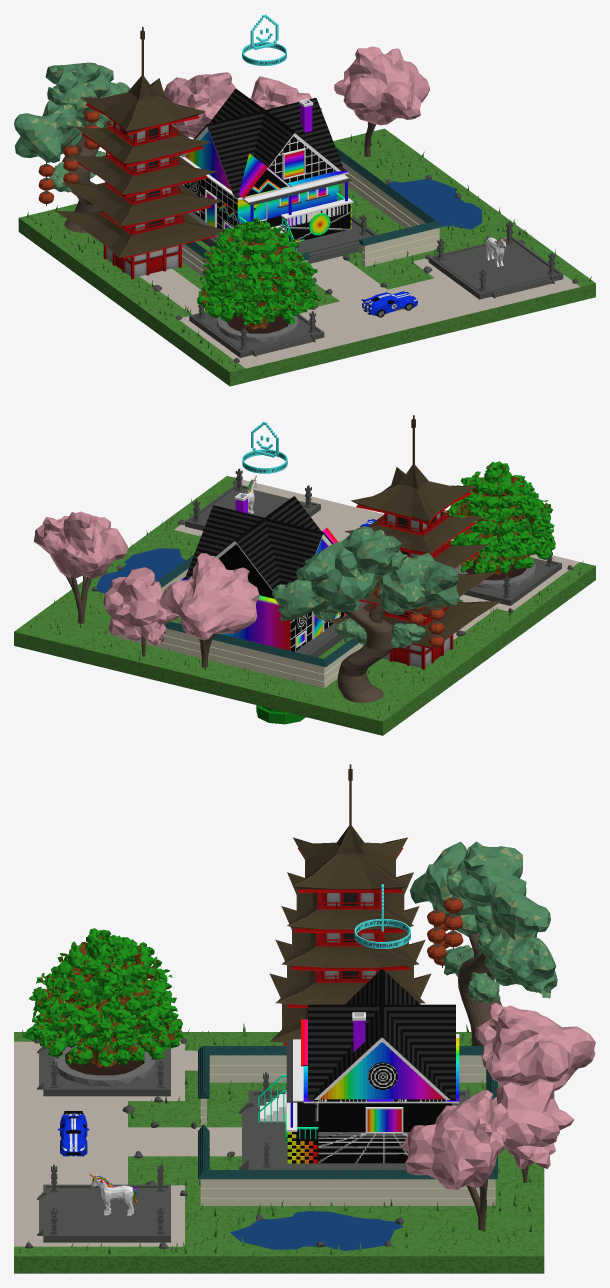
3 renders of one model, top to bottom at view 1: azimuth 30°, elevation 25°; view 2: azimuth 150°, elevation 25°; view 3: azimuth 270°, elevation 25°, orthographic. The views are drawn at different scales.
Parts seen in each view (by area): view 1: Cube.005, Cube.1320, OBJRANDOM_CEIBA, VEHICLES_RACING_CAR, TYPE_PREMIUM; view 2: Cube.005, Cube.1320, OBJRANDOM_CEIBA, TYPE_PREMIUM, UNDERGROUND_PIPES; view 3: Cube.005, Cube.1320, OBJRANDOM_CEIBA, VEHICLES_RACING_CAR, TYPE_PREMIUM, ANIMAL_UNICORNIO.
Part boxes in pixels (x1,y1,x2,y2): Cube.005: (14, 26, 595, 386); Cube.1320: (178, 89, 353, 251); OBJRANDOM_CEIBA: (197, 217, 321, 342); VEHICLES_RACING_CAR: (361, 291, 417, 317); TYPE_PREMIUM: (242, 14, 286, 65); Cube.005: (14, 415, 595, 735); Cube.1320: (181, 493, 345, 651); OBJRANDOM_CEIBA: (443, 461, 555, 588); TYPE_PREMIUM: (242, 421, 287, 473); UNDERGROUND_PIPES: (256, 705, 305, 724); Cube.005: (14, 764, 595, 1273); Cube.1320: (258, 969, 459, 1163); OBJRANDOM_CEIBA: (24, 928, 183, 1086); VEHICLES_RACING_CAR: (57, 1111, 89, 1156); TYPE_PREMIUM: (354, 884, 410, 948); ANIMAL_UNICORNIO: (89, 1173, 137, 1215).
Bounding box in the file's own units: 4528 × 3273 × 4389.
Materials: 46 (8 with a texture image).
